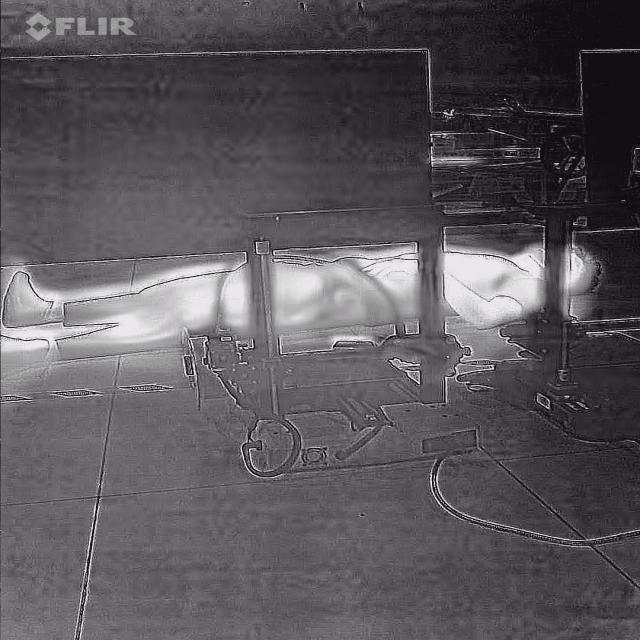Victim: (0, 228, 609, 382)
